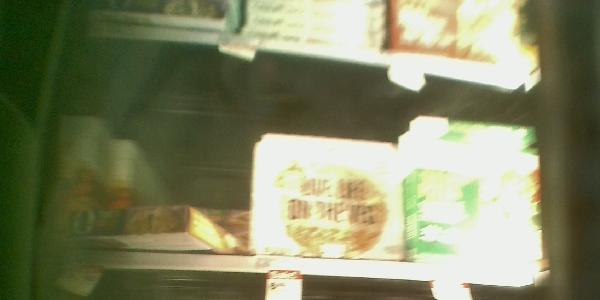pizza: (244, 133, 408, 262), (407, 115, 543, 266)
pizza1: (38, 208, 219, 253)
